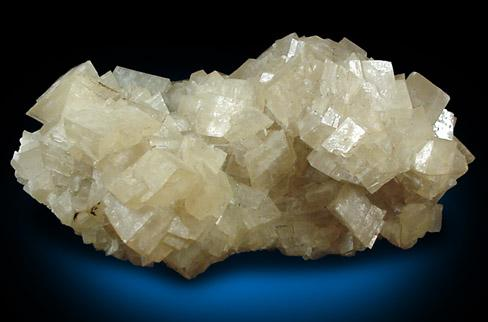calcite: (11, 33, 475, 278)
